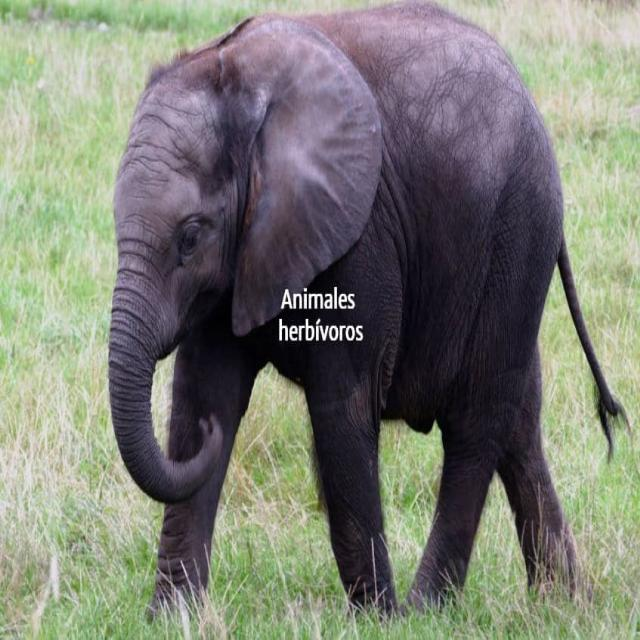Herbivorous: (107, 2, 626, 639)
